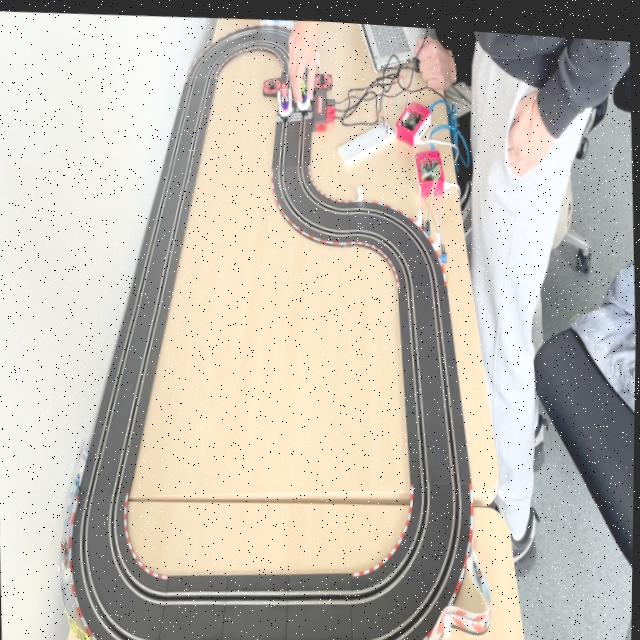mario: (275, 78, 291, 115)
yoshi: (292, 71, 313, 111)
